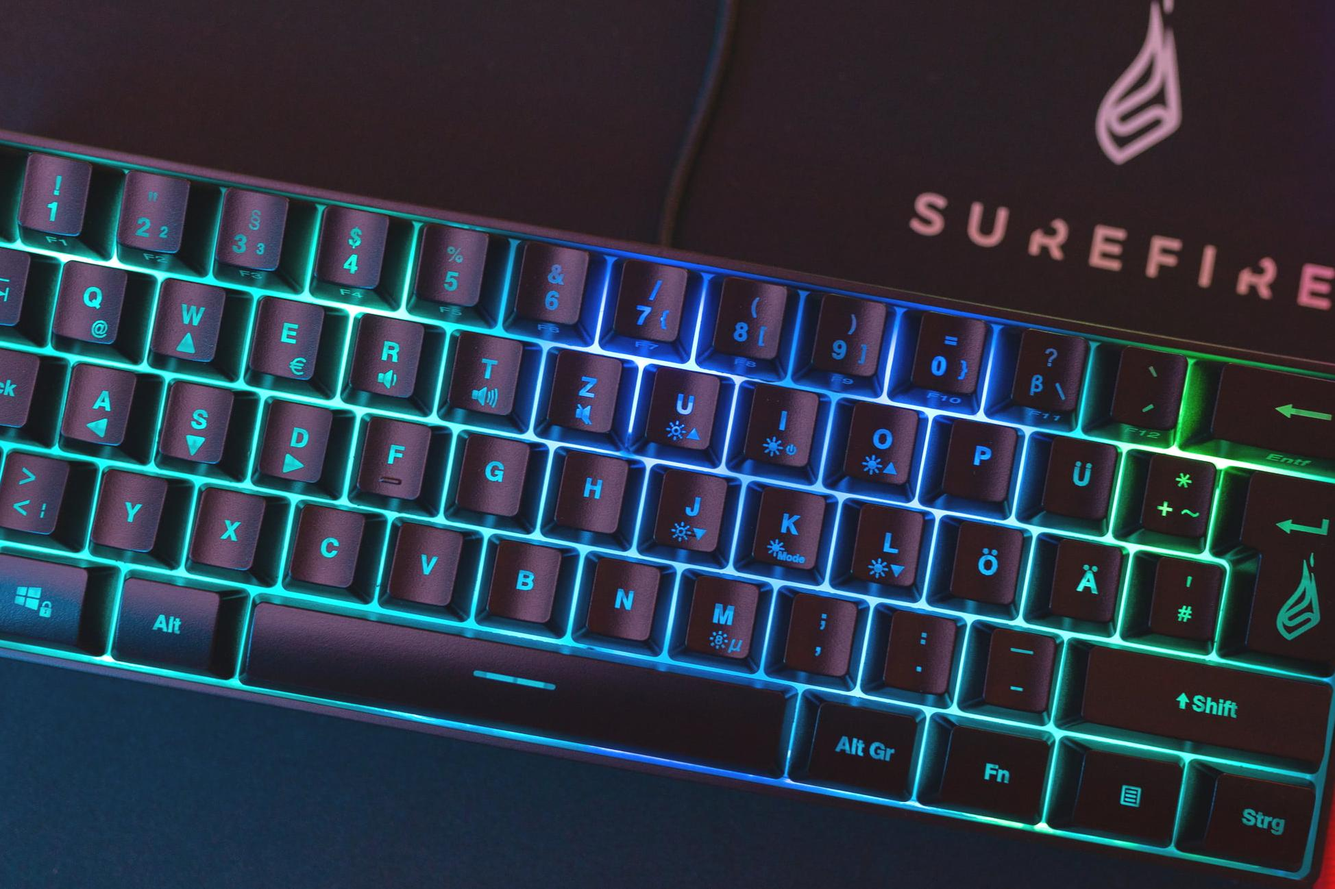0: (904, 308, 990, 399)
1: (14, 150, 91, 235)
2: (112, 166, 191, 254)
3: (212, 184, 291, 273)
4: (311, 203, 391, 290)
5: (411, 221, 491, 307)
6: (507, 238, 591, 326)
7: (606, 255, 689, 344)
8: (705, 273, 789, 363)
9: (803, 290, 890, 379)
a: (58, 358, 137, 447)
accent: (1107, 342, 1187, 429)
ae: (1044, 534, 1124, 622)
alt-left: (110, 569, 223, 673)
altgr-right: (796, 693, 927, 797)
b: (478, 531, 563, 623)
c: (282, 498, 365, 588)
comma: (777, 586, 859, 675)
d: (254, 395, 333, 484)
del: (1201, 360, 1335, 471)
e: (246, 292, 326, 381)
enter: (1232, 460, 1335, 672)
f: (352, 411, 431, 500)
g: (450, 428, 529, 515)
h: (547, 444, 628, 533)
hash: (1143, 551, 1225, 642)
i: (739, 379, 820, 471)
j: (648, 464, 728, 553)
k: (744, 481, 827, 572)
keyboard: (1, 128, 1335, 884)
l: (844, 499, 926, 589)
less: (1, 446, 69, 535)
m: (674, 567, 761, 662)
minus: (979, 622, 1056, 712)
n: (579, 551, 661, 641)
o: (840, 397, 922, 487)
oe: (944, 518, 1025, 605)
p: (938, 414, 1020, 501)
plus: (1138, 447, 1217, 536)
point: (880, 605, 960, 692)
q: (48, 255, 127, 346)
r: (345, 308, 426, 399)
s: (155, 375, 233, 465)
shift-lock: (1, 343, 37, 427)
shift-right: (1071, 638, 1333, 762)
space: (232, 590, 796, 784)
ss: (1005, 325, 1088, 416)
strg-right: (1196, 768, 1321, 877)
t: (442, 326, 524, 416)
tab: (1, 239, 34, 325)
u: (641, 360, 722, 453)
ue: (1037, 430, 1119, 521)
v: (380, 514, 464, 605)
w: (147, 272, 226, 361)
x: (186, 481, 267, 568)
y: (87, 465, 167, 551)
z: (543, 344, 624, 434)
